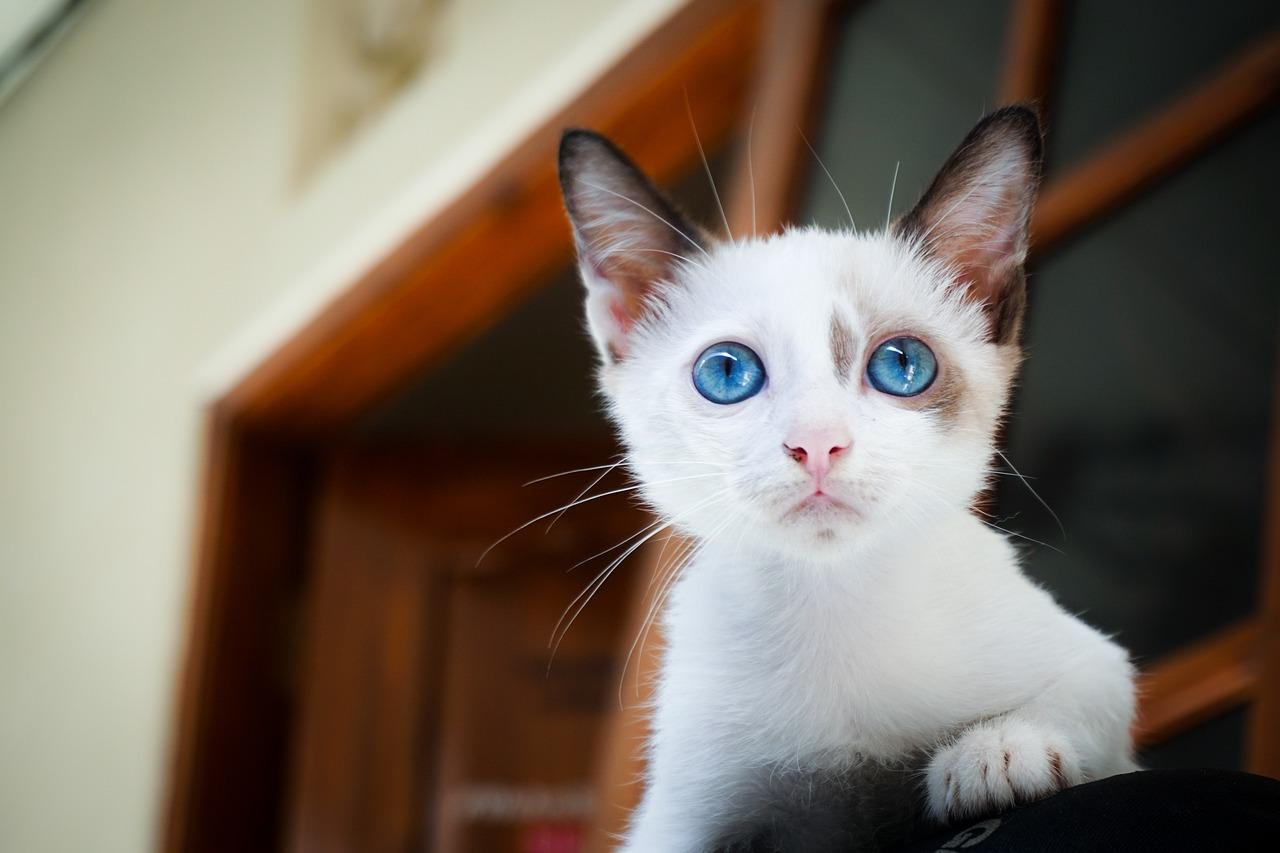kedo: (565, 104, 1275, 853)
